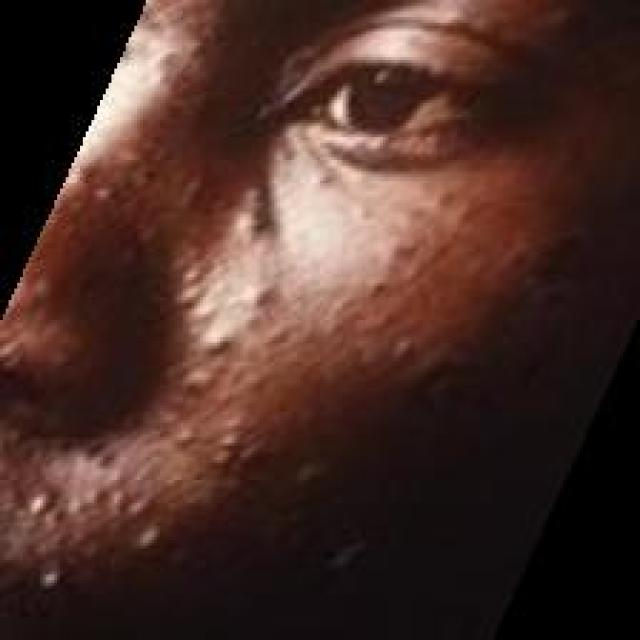others: (84, 0, 640, 640)
